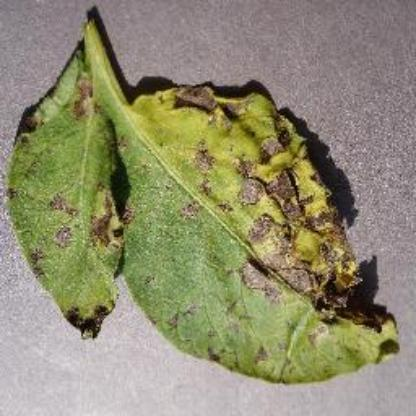Early-Blight: (75, 9, 404, 375), (3, 48, 154, 338)
